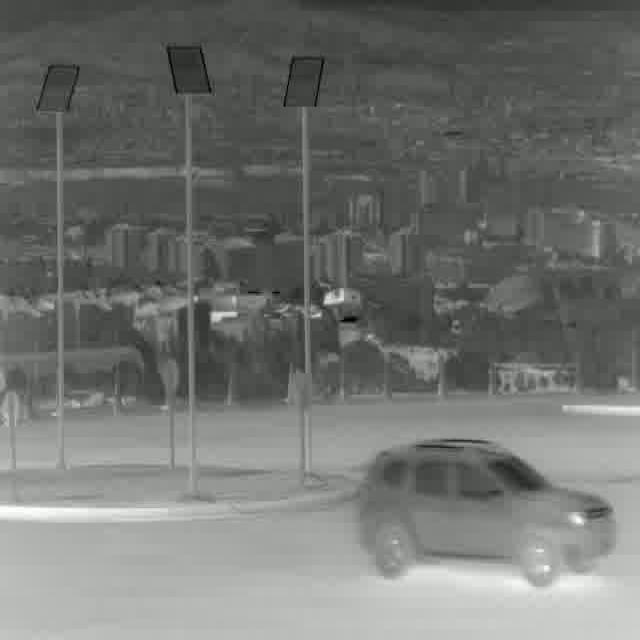Car: (356, 439, 616, 588)
